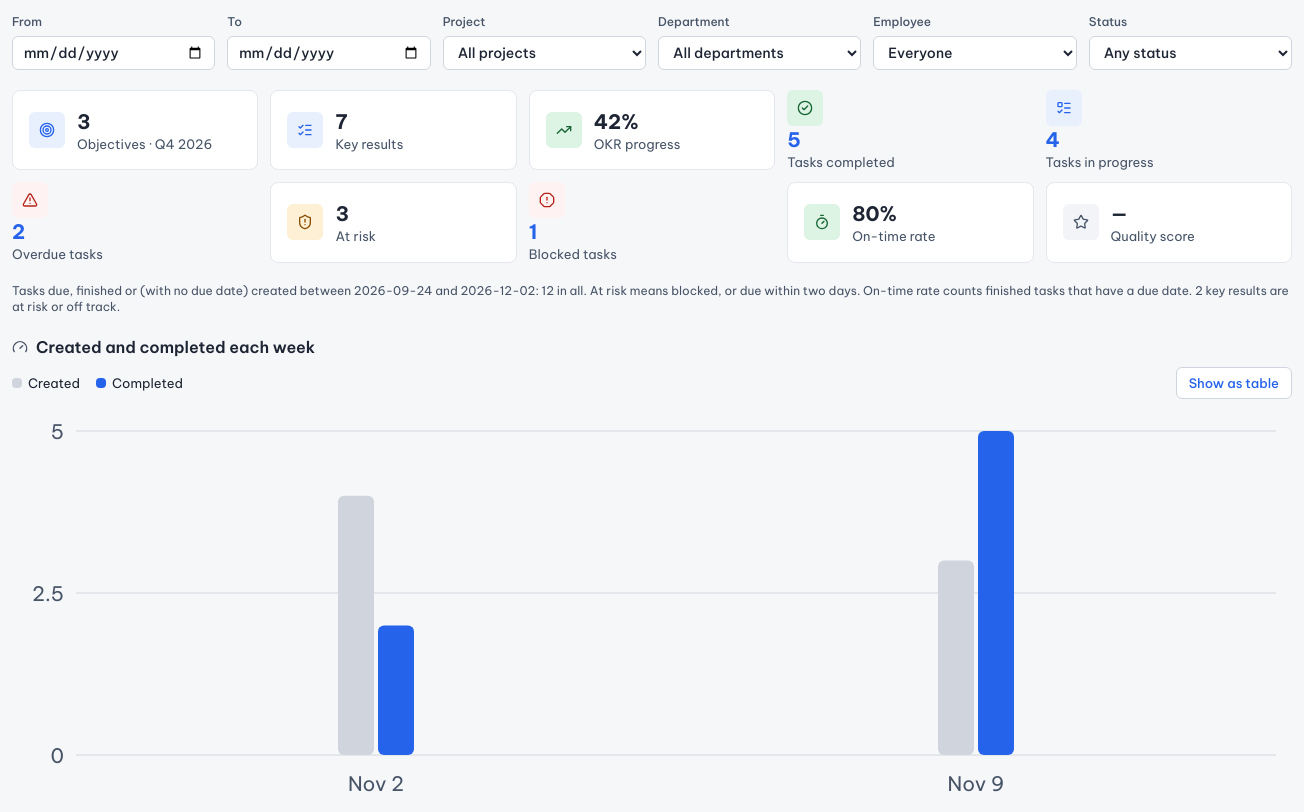
Test case: OverviewScreen › asks again with the filters that were chosen, and can clear them
The image size is (1304, 812).
Expected: the list named "Key numbers" is shown, 12,90 -> 1292,262
Step 1. Select "Blocked" in the dropdown labelled "Status" → {"x": 1190, "y": 53}, box 1089,36 -> 1292,70
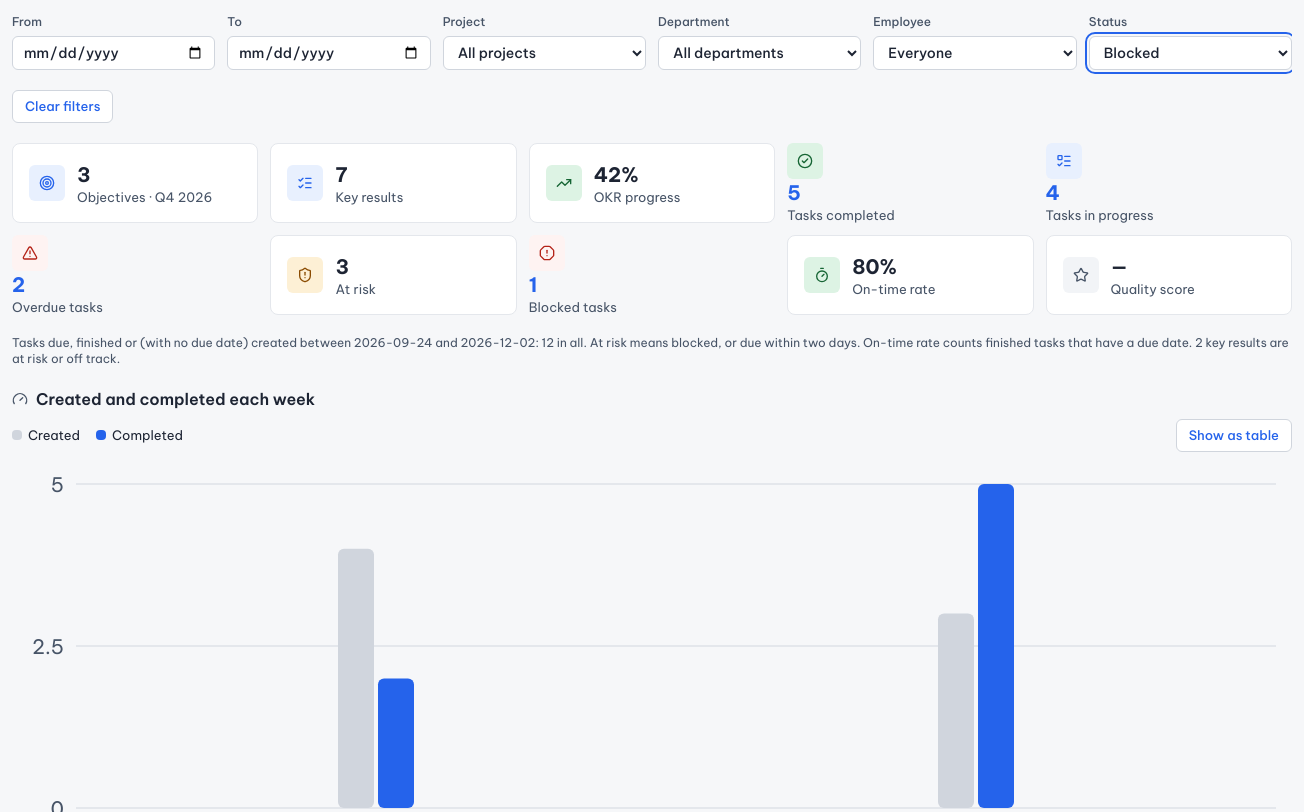
Step 2. Select "Sales" in the dropdown labelled "Department" → {"x": 760, "y": 53}, box 658,36 -> 861,70
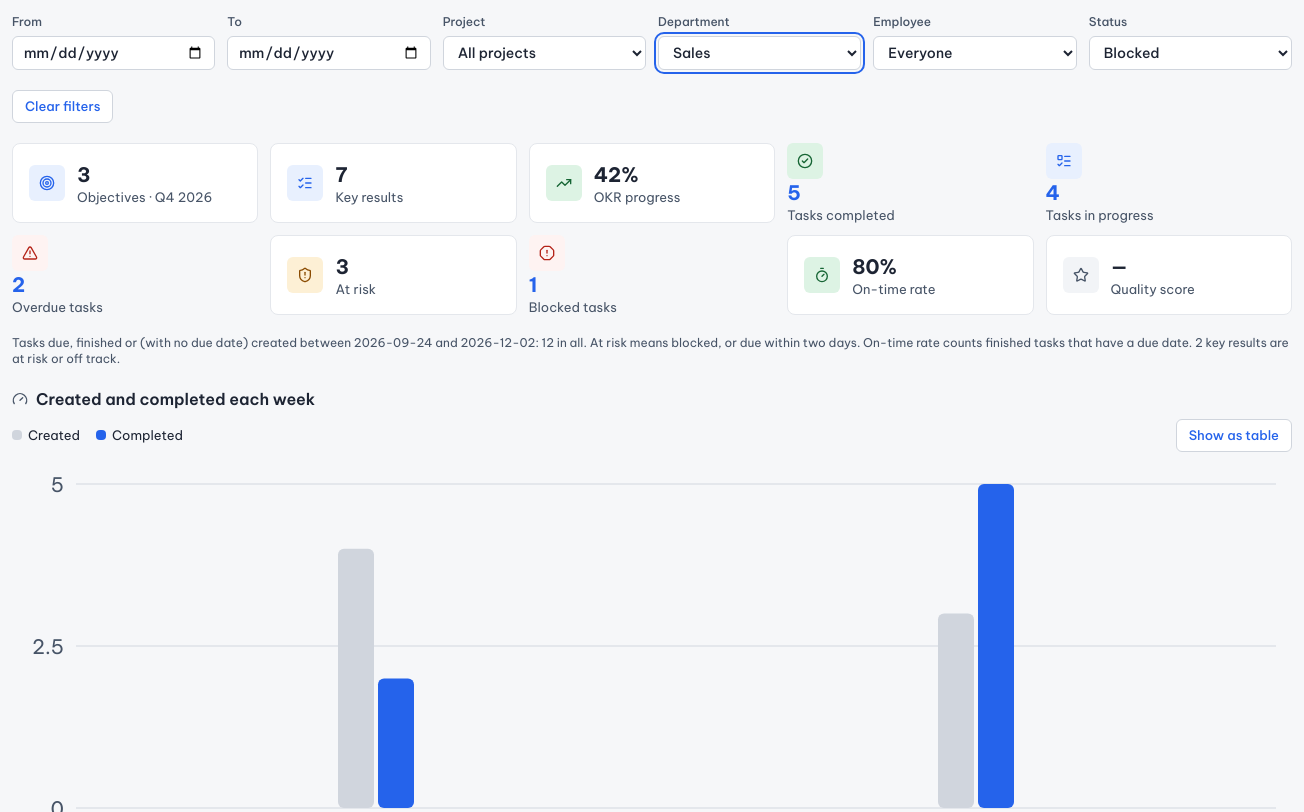
Step 3. Click the button "Clear filters" → {"x": 63, "y": 106}, box 12,90 -> 114,123
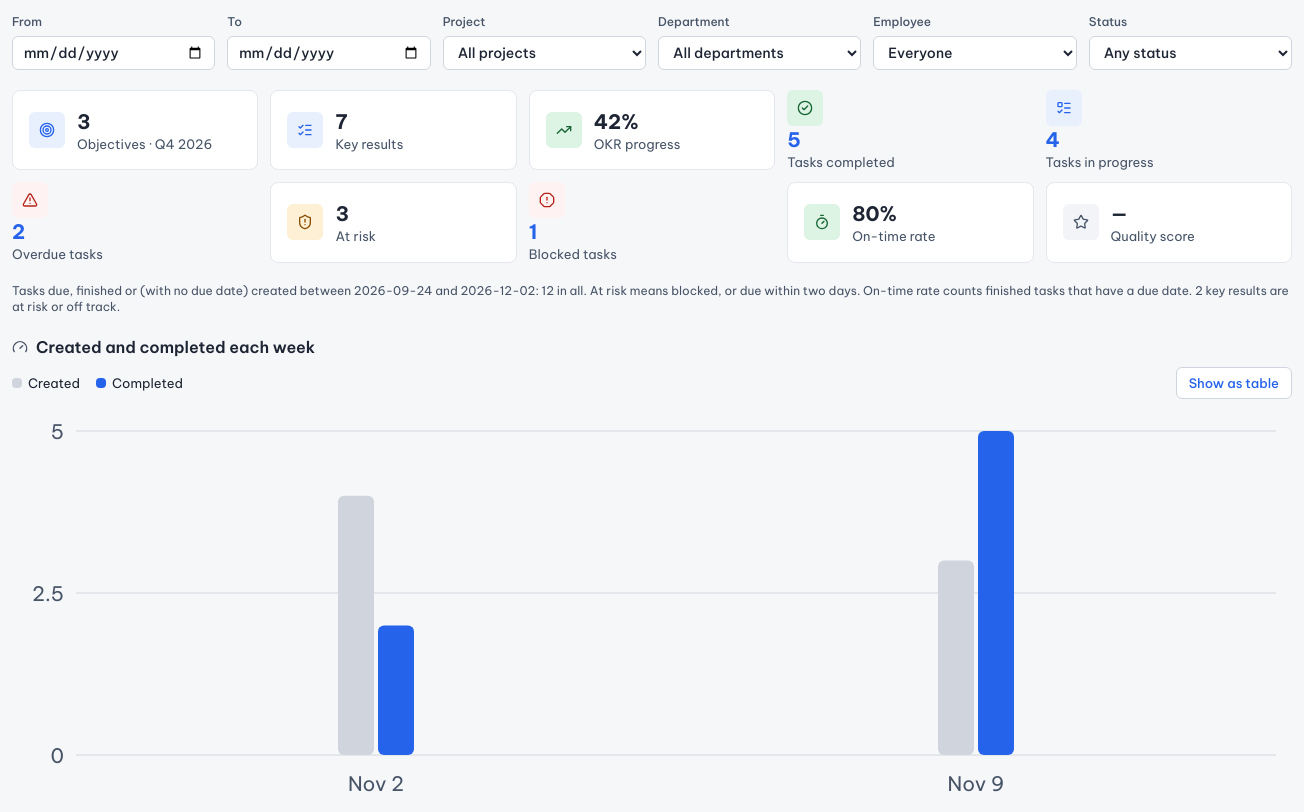
Expected: the button "Clear filters" is gone
